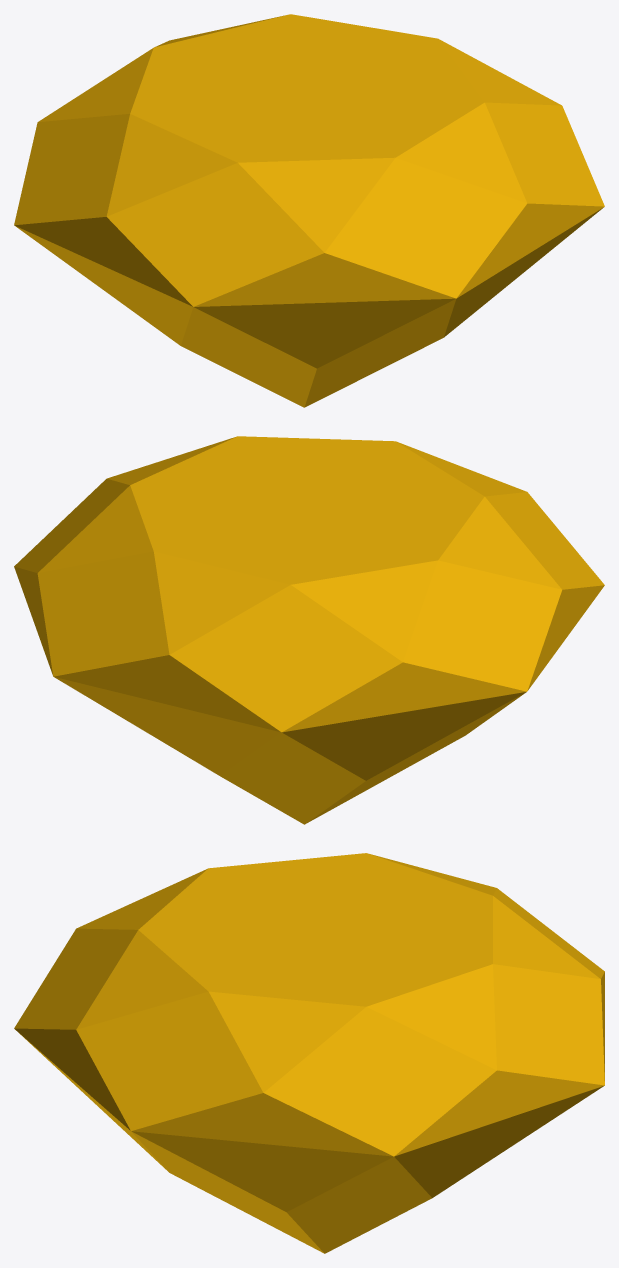
The model's file is Gem_001.fbx.
3 views of the same model, one above another, from view 1: azimuth 30°, elevation 25°; view 2: azimuth 150°, elevation 25°; view 3: azimuth 270°, elevation 25° (orthographic). The views are drawn at different scales.
Visible parts, largest first — view 1: Gem.001; view 2: Gem.001; view 3: Gem.001.
Part boxes in pixels (x1,y1,x2,y2): Gem.001: (14, 14, 604, 407); Gem.001: (14, 436, 604, 824); Gem.001: (14, 853, 604, 1253).
Size of the model in its own units: 195 by 115 by 190.
